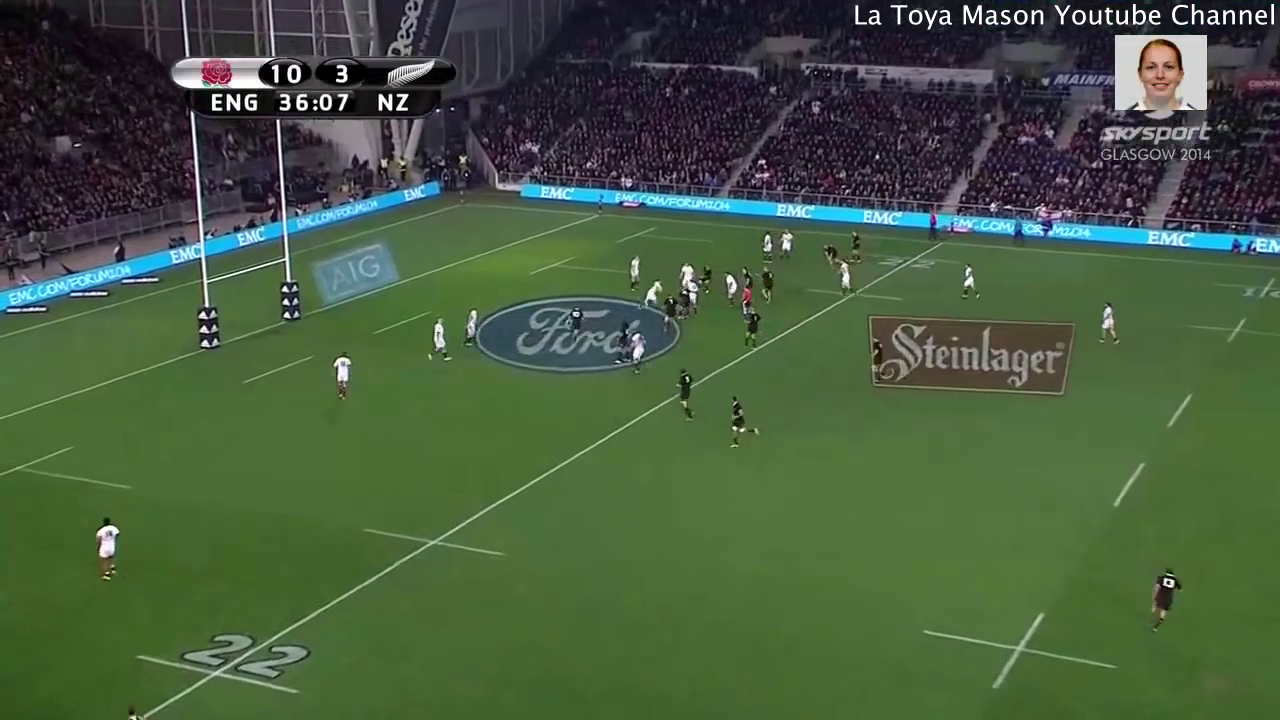10_metre: (916, 603, 1130, 703), (1176, 310, 1280, 349), (1206, 269, 1280, 304)
player: (1138, 561, 1193, 640), (89, 513, 125, 597), (719, 391, 762, 453), (326, 345, 361, 407), (669, 366, 703, 429), (953, 257, 987, 314), (456, 300, 490, 357), (426, 313, 459, 369), (1094, 296, 1125, 348), (865, 330, 890, 389), (833, 253, 860, 305), (634, 273, 667, 313), (608, 317, 634, 367), (626, 324, 646, 379), (566, 300, 589, 346), (622, 251, 646, 295), (756, 264, 780, 306), (740, 305, 761, 352), (693, 262, 716, 301), (684, 273, 703, 319), (672, 261, 696, 296), (659, 290, 679, 331), (674, 279, 691, 321), (847, 230, 866, 267), (721, 268, 738, 309), (738, 285, 757, 320), (761, 228, 777, 268), (777, 226, 795, 261), (818, 240, 840, 265), (737, 264, 759, 289)
post: (184, 80, 307, 359)
